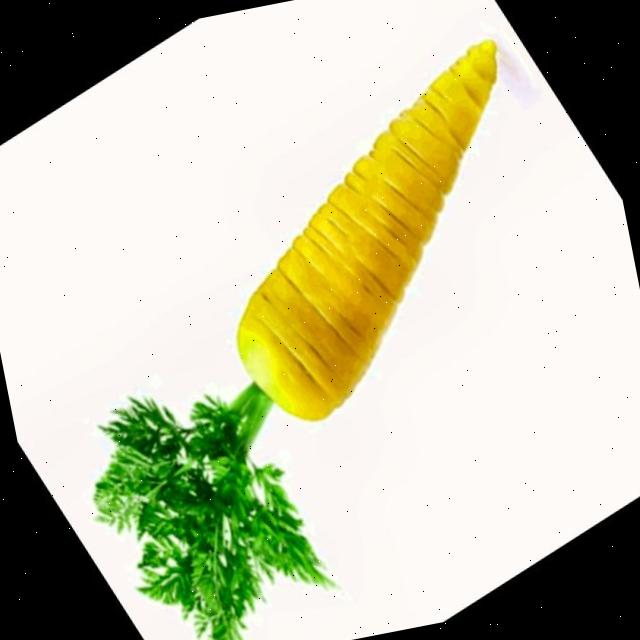carrot: (93, 39, 497, 640)
